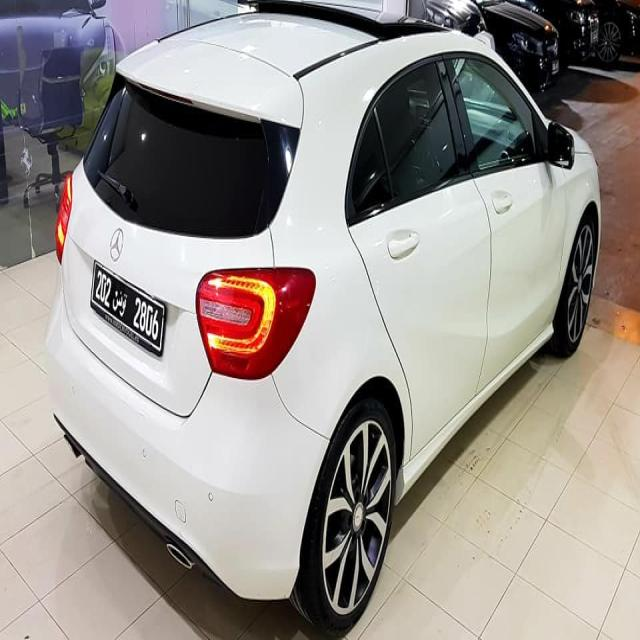LP: (89, 260, 164, 353)
